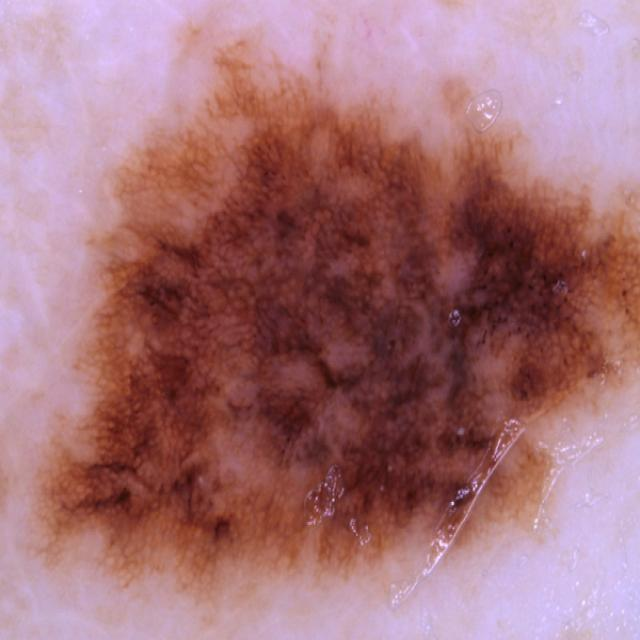NV: (13, 24, 639, 631)
